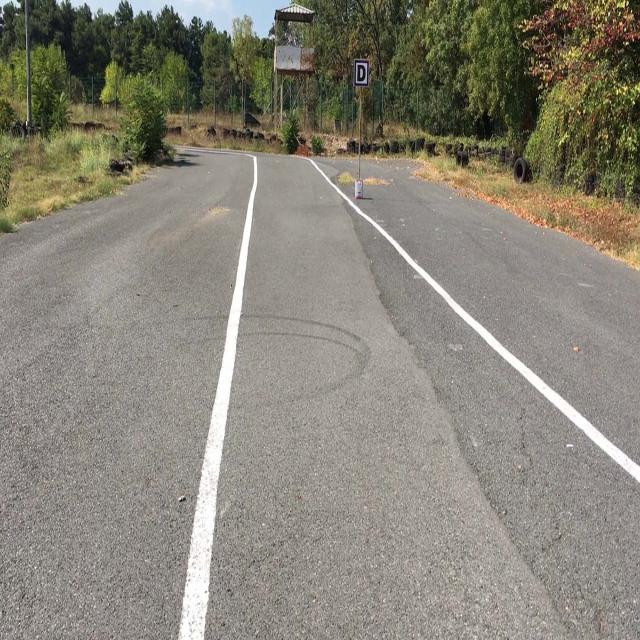durak: (354, 61, 368, 87)
